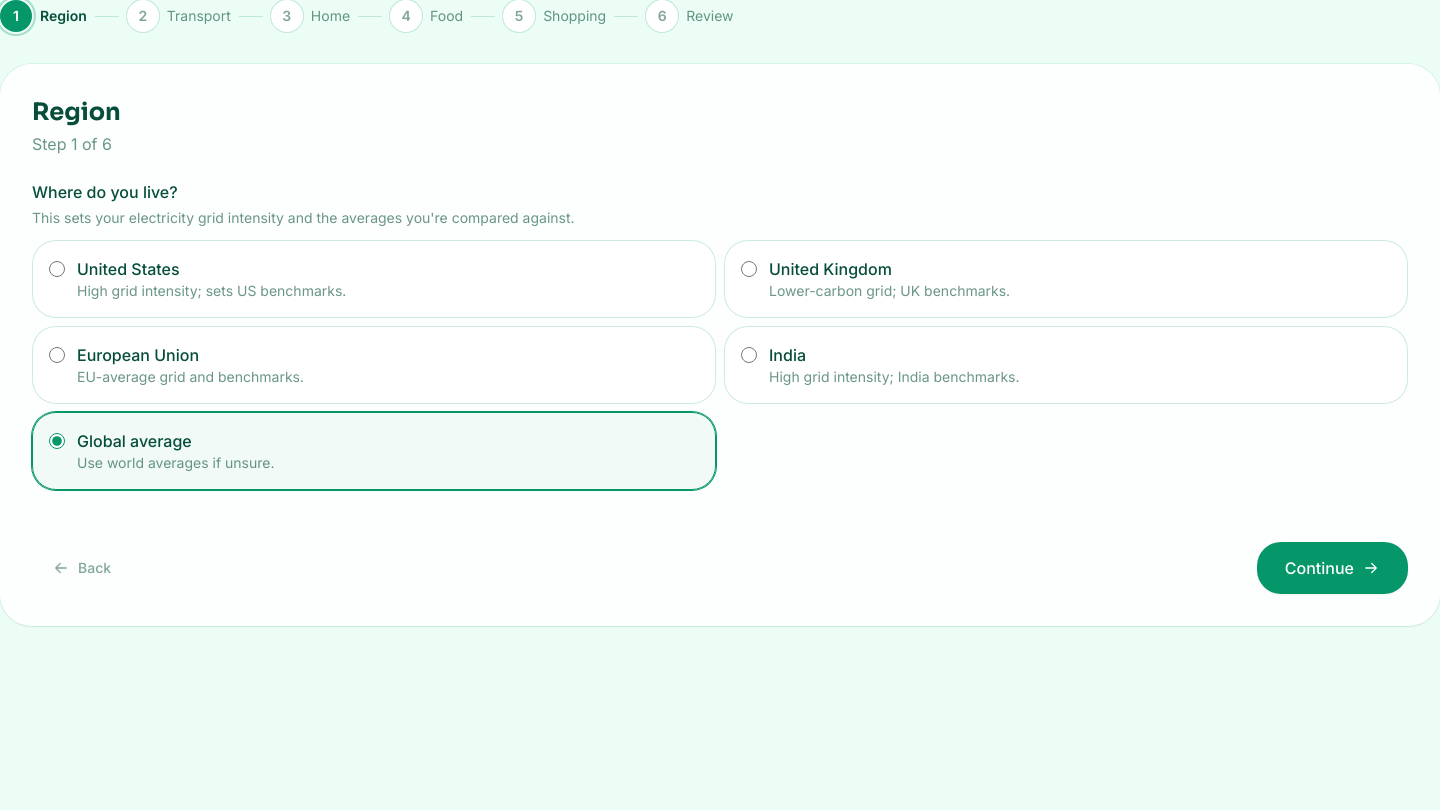
Test: CalculatorForm › returns to the previous step via Back
The image size is (1440, 810).
Click the button "Continue".
click(1332, 568)  # box [1257,542,1408,594]
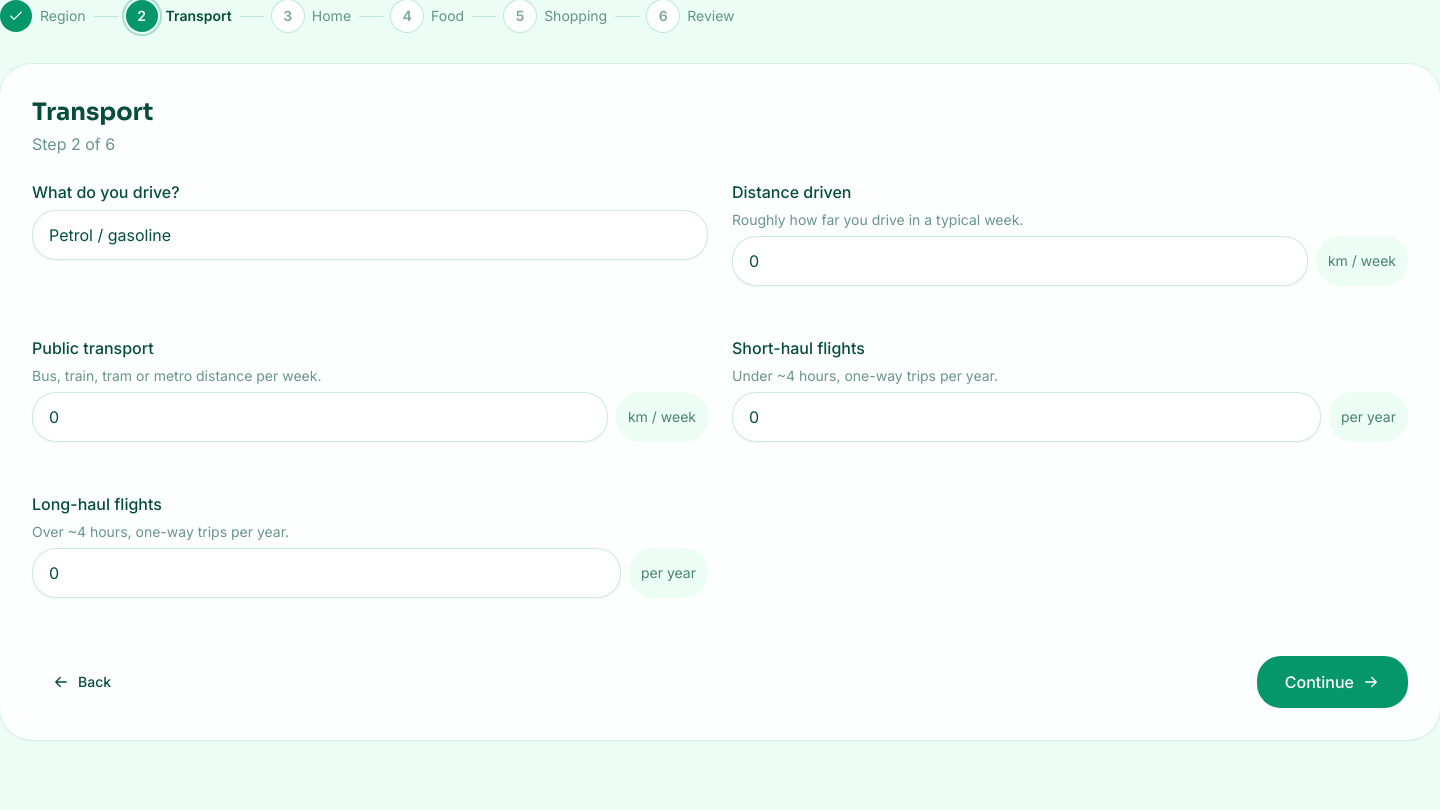
Click the button "Back".
click(82, 682)  # box [32,660,131,704]
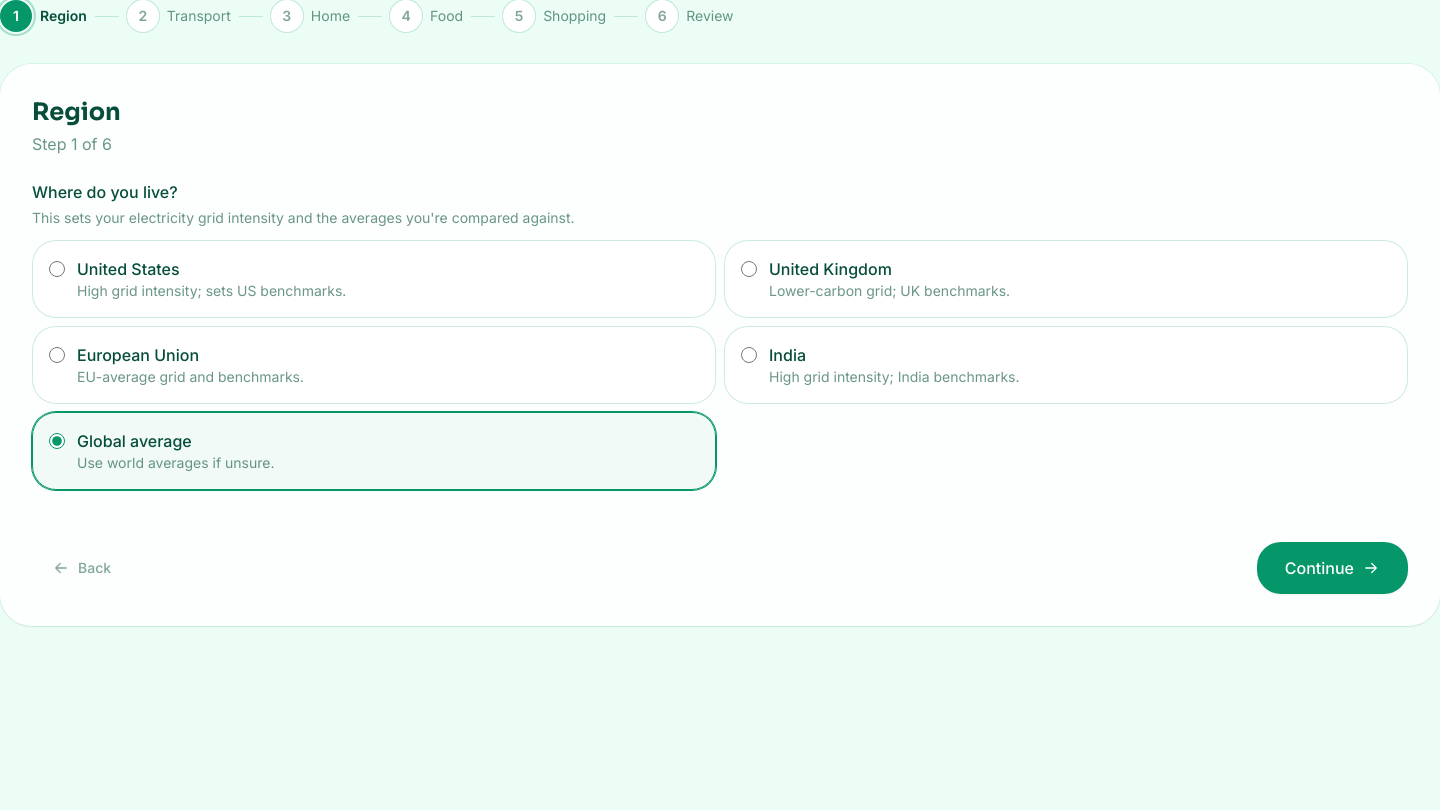
Result: the heading "Region" is shown at [32,97,121,127]
